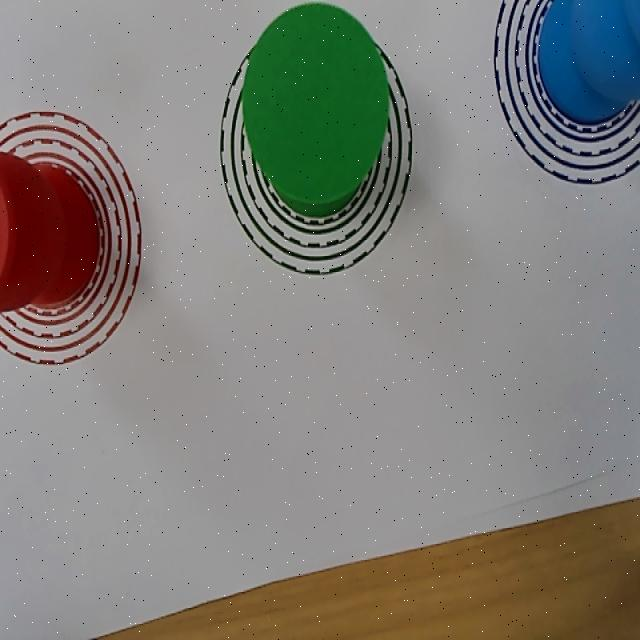g: (244, 4, 388, 206)
